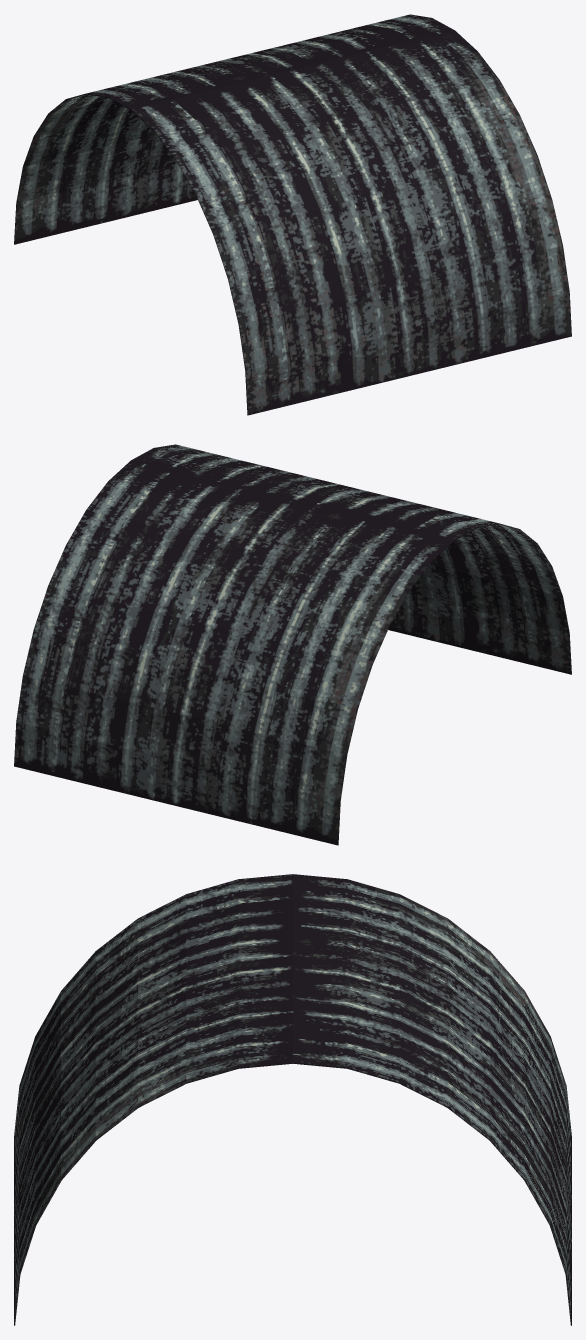
The model's file is SM_EU_MetalTunnel_Small_0.fbx.
The picture shows the model from 3 angles, top to bottom: view 1: azimuth 30°, elevation 25°; view 2: azimuth 150°, elevation 25°; view 3: azimuth 270°, elevation 25°; orthographic projection. The views are drawn at different scales.
Parts seen in each view (by area): view 1: SM_EU_MetalTunnel_Small_0; view 2: SM_EU_MetalTunnel_Small_0; view 3: SM_EU_MetalTunnel_Small_0.
Part boxes in pixels (left/top/right/bottom): SM_EU_MetalTunnel_Small_0: left=14, top=14, right=571, bottom=415; SM_EU_MetalTunnel_Small_0: left=14, top=444, right=571, bottom=845; SM_EU_MetalTunnel_Small_0: left=14, top=874, right=571, bottom=1325.
Bounding box in the file's own units: 4 × 5 × 2.6.
